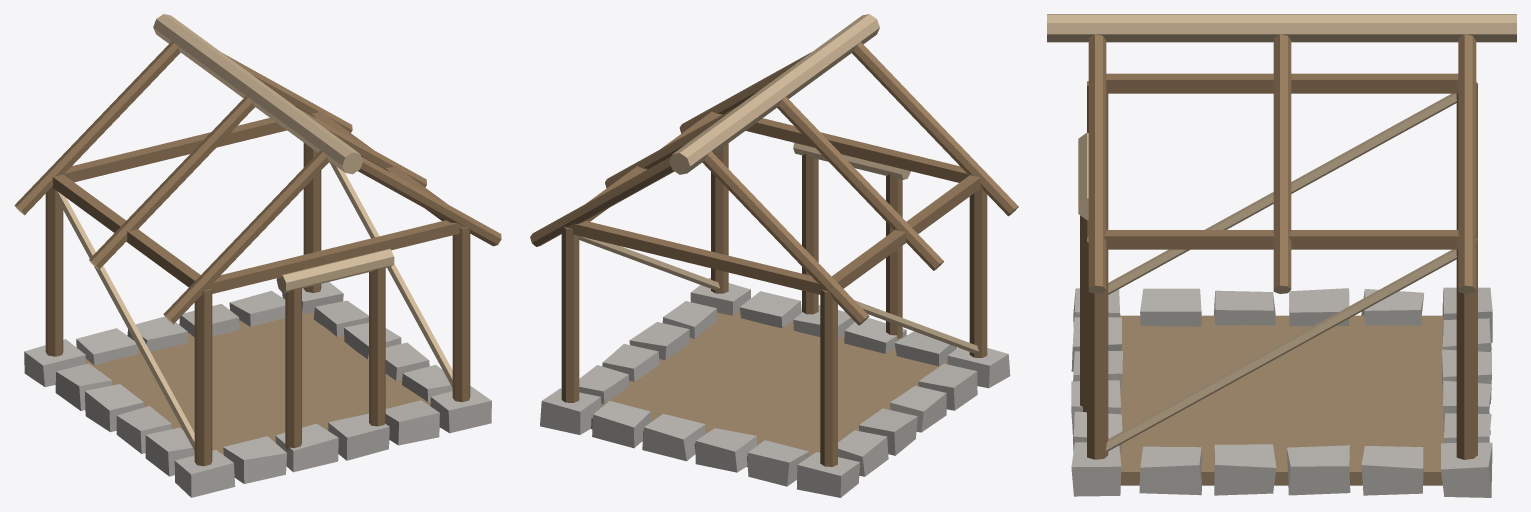
Rendered from building_storehouse_frame.glb.
3 renders of one model, left to right at view 1: azimuth 30°, elevation 25°; view 2: azimuth 150°, elevation 25°; view 3: azimuth 270°, elevation 25°, orthographic. The views are drawn at different scales.
Visible parts, largest first — view 1: building_storehouse_frame; view 2: building_storehouse_frame; view 3: building_storehouse_frame.
Part boxes in pixels (x1,y1,x2,y2): building_storehouse_frame: [14, 14, 501, 497]; building_storehouse_frame: [530, 14, 1018, 497]; building_storehouse_frame: [1047, 14, 1516, 497].
Bounding box in the file's own units: 3.85 × 3.47 × 3.76.
